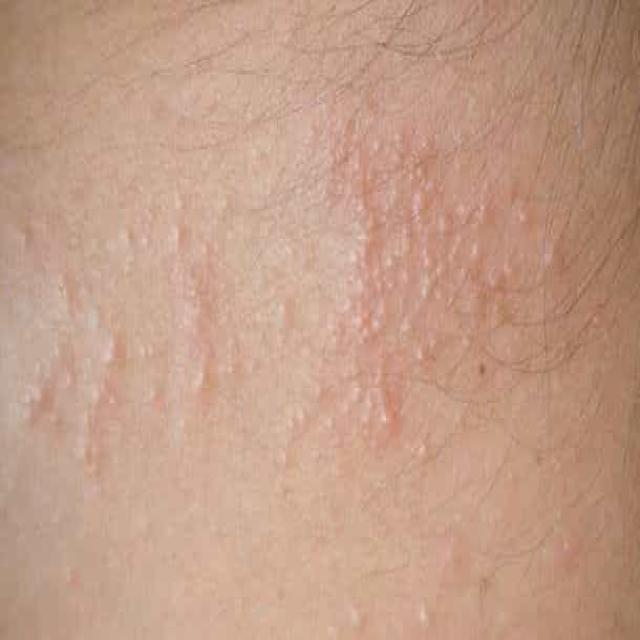Eczema: (0, 124, 562, 506)
